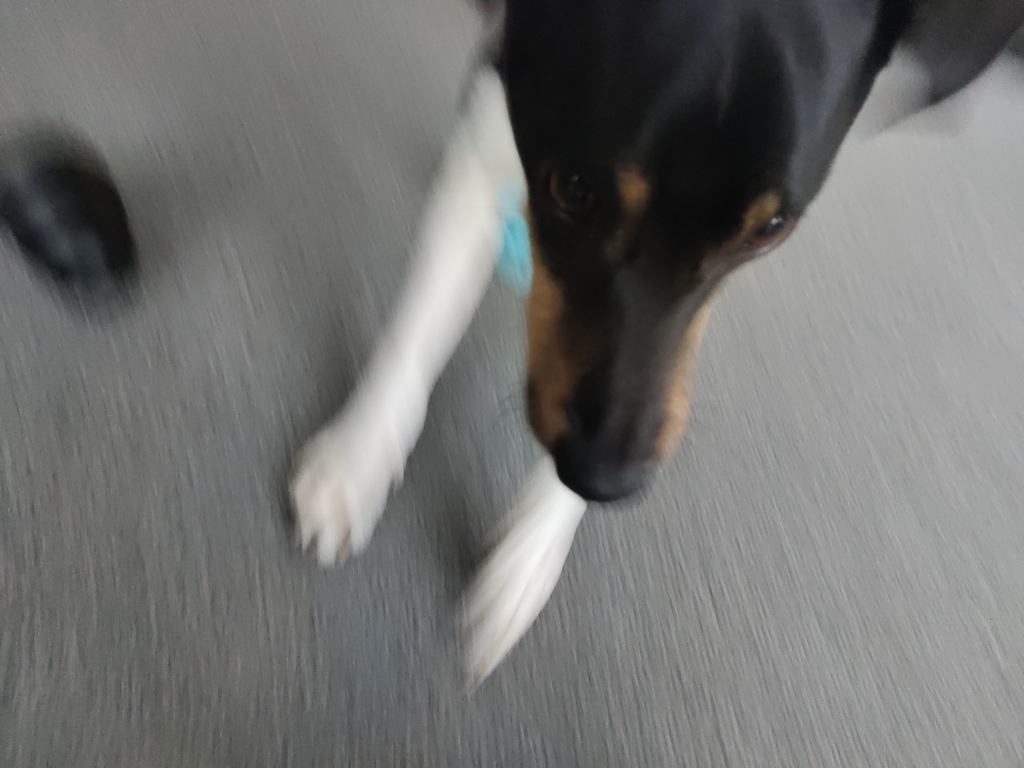Dog: (258, 0, 1024, 714)
